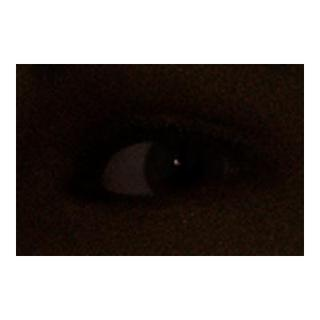pupil: (164, 148, 204, 187)
